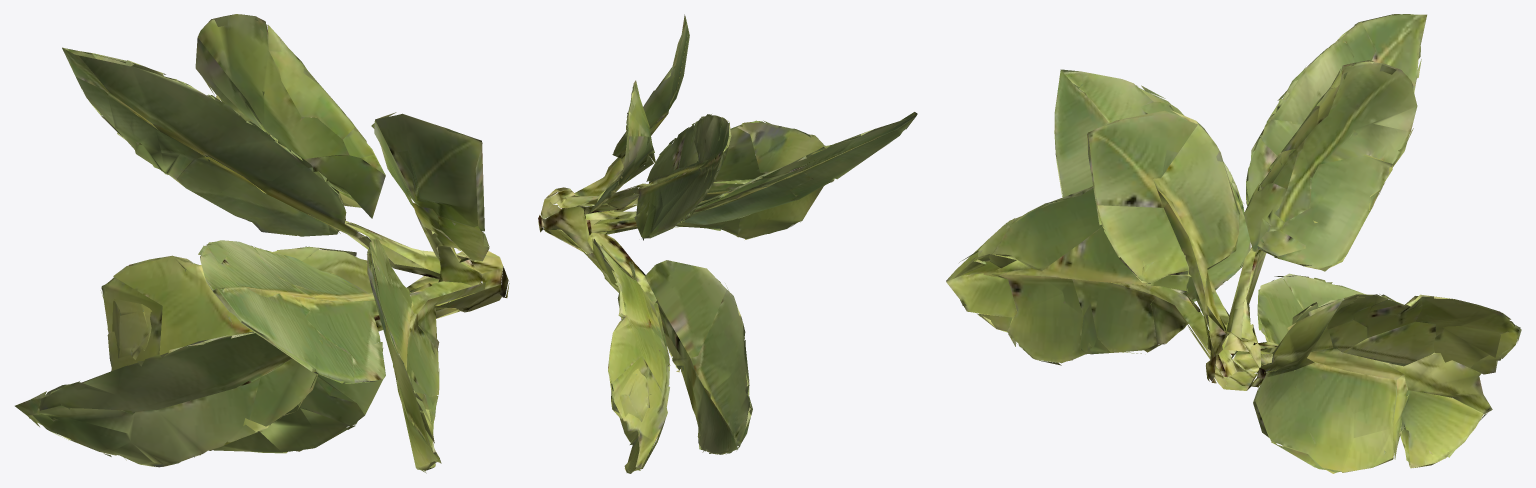
The model's file is turtle-s02-banana-top-lie.glb.
3 renders of one model, left to right at view 1: azimuth 30°, elevation 25°; view 2: azimuth 150°, elevation 25°; view 3: azimuth 270°, elevation 25°, orthographic. The views are drawn at different scales.
Visible parts, largest first — view 1: Mesh_0; view 2: Mesh_0; view 3: Mesh_0.
Part boxes in pixels (x1=…): Mesh_0: x1=15, y1=14, x2=509, y2=473; Mesh_0: x1=538, y1=14, x2=917, y2=473; Mesh_0: x1=946, y1=14, x2=1521, y2=473.
Bounding box in the file's own units: 0.0691 × 0.0799 × 0.1.
Materials: 1 (1 with a texture image).
